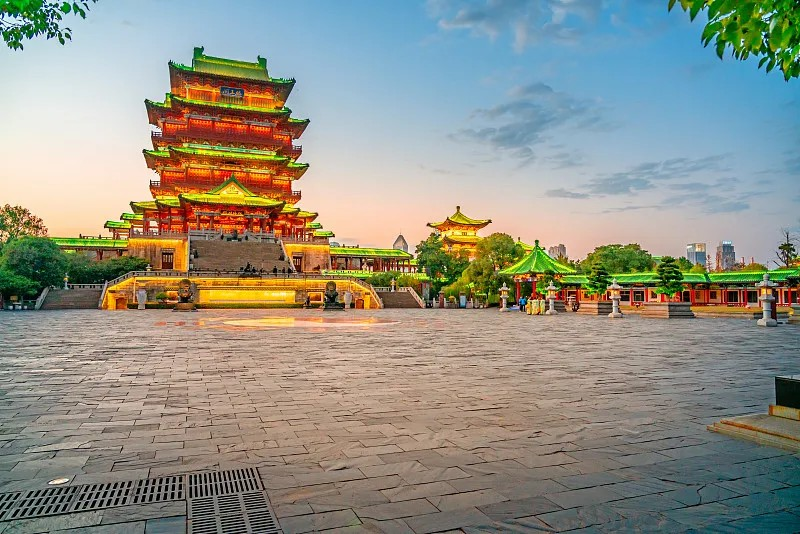Teng: (104, 48, 334, 242)
